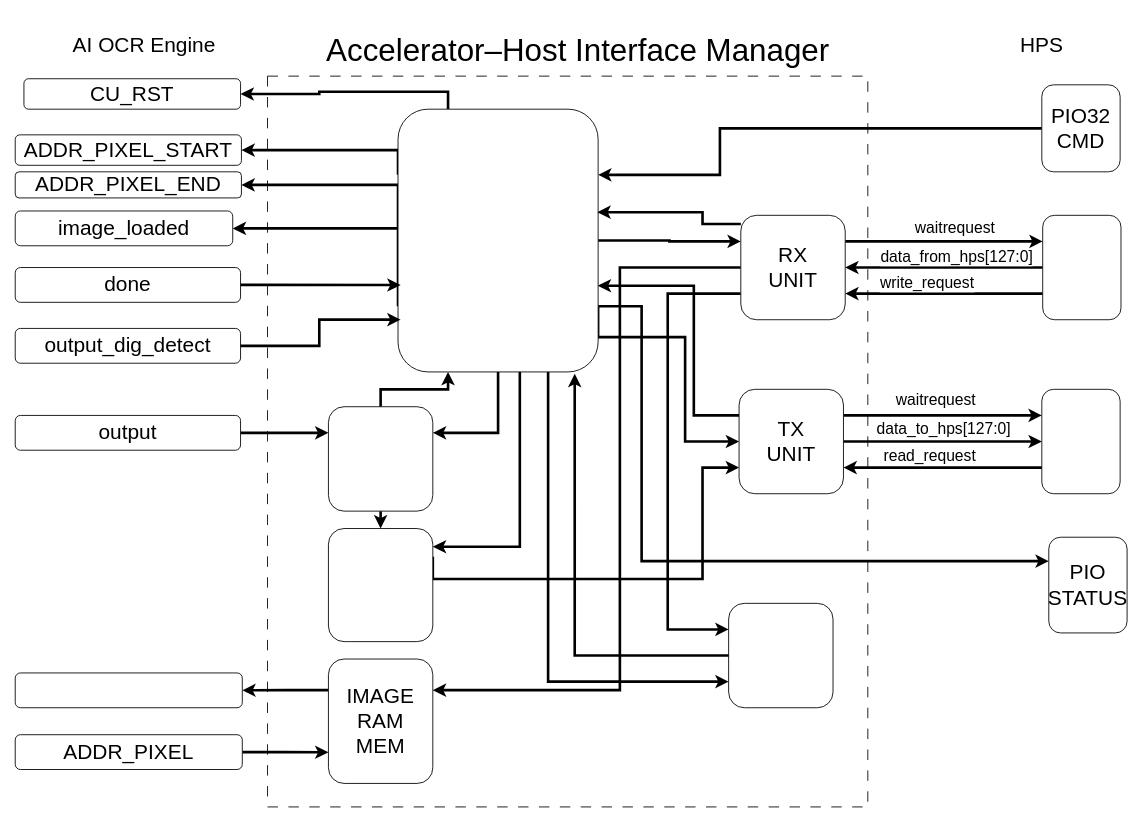
Some shapes in this 1142 by 822 pixel diagram are drawn without their labels. Each missing label, with the centre of its shape:
"AHIM CC FSM Watchdog Error Handling Payload Decode + Config Control" belongs at point (497, 240).
"Break point MEM" belongs at point (780, 655).
"OCR RX UNIT" belongs at point (380, 458).
"PIO128 IN" belongs at point (1080, 441).
"PIO128 OUT" belongs at point (1081, 267).
"pixel_in" belongs at point (128, 690).
"RESULT FILO MEM" belongs at point (380, 585).
